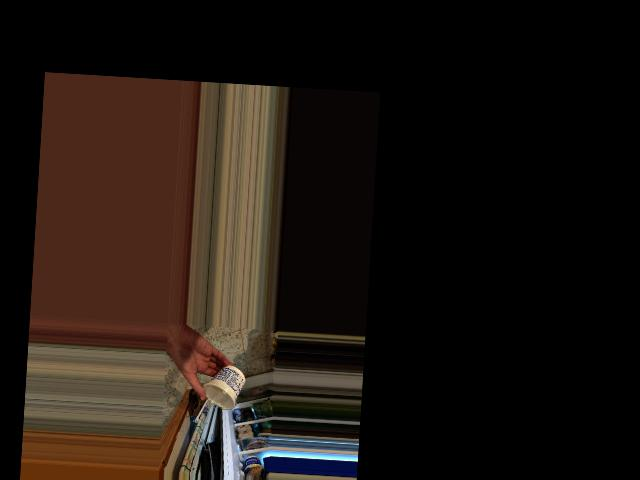cotage: (199, 367, 244, 410)
